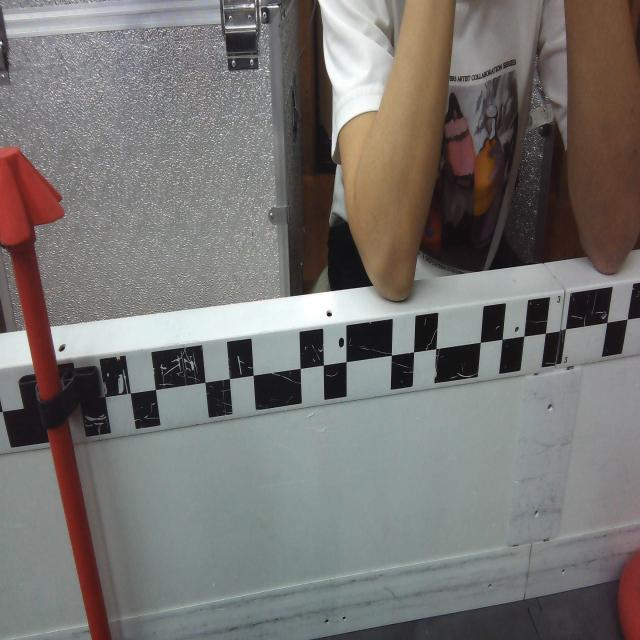zred-Stake-Head: (0, 146, 65, 247)
